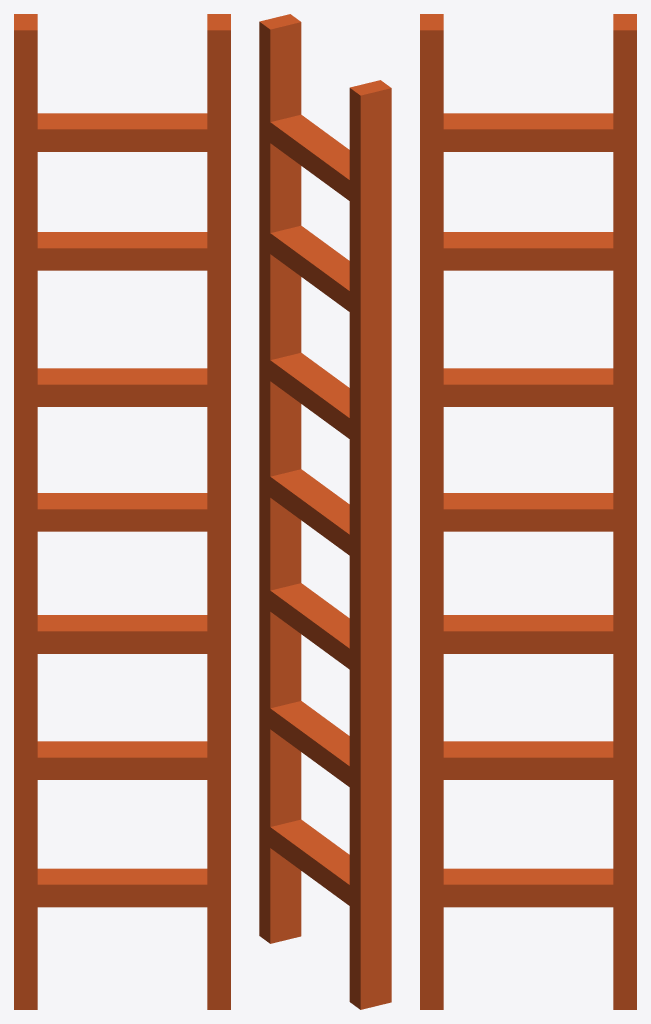
Rendered from ladder.obj.
The picture shows the model from 3 angles, left to right: view 1: azimuth 90°, elevation 25°; view 2: azimuth 210°, elevation 25°; view 3: azimuth 270°, elevation 25°; orthographic projection. The views are drawn at different scales.
Visible parts, largest first — view 1: ladder; view 2: ladder; view 3: ladder.
Boxes of the visible parts, left/top/right/bottom form: ladder: left=14, top=14, right=230, bottom=1009; ladder: left=259, top=14, right=391, bottom=1009; ladder: left=420, top=14, right=636, bottom=1009.
Bounding box in the file's own units: 0.6403 × 18.04 × 3.62.
